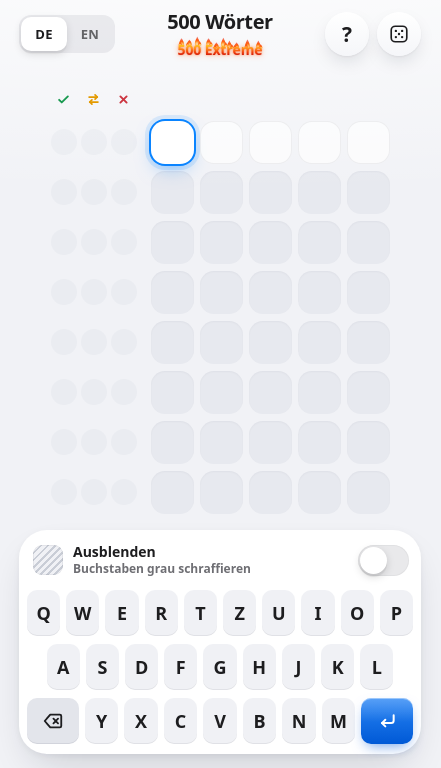
Test case: Hinweis › braucht zwei Tipps: Der erste drückt den Button ein und zeigt die Sprechblase
Click the button named "Hinweis". click: (347, 34)
box: [325,12,369,56]
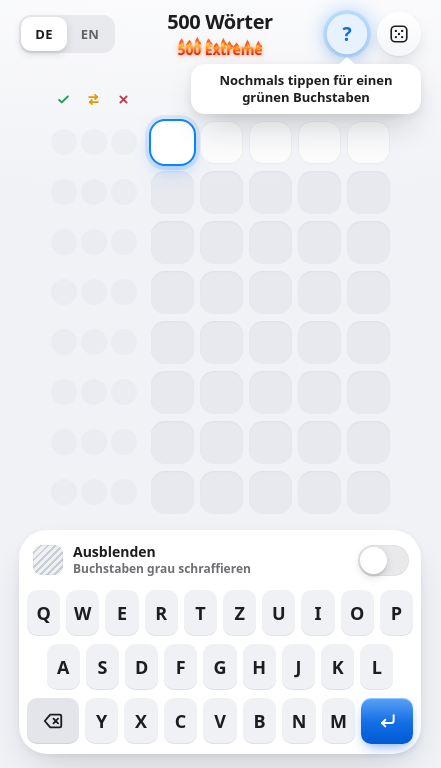
Check: the tooltip "Nochmals tippen für einen grünen Buchstaben" is shown, box [191,64,421,114]
Click the button named "Hinweis". click: (347, 34)
box: [327,14,367,54]
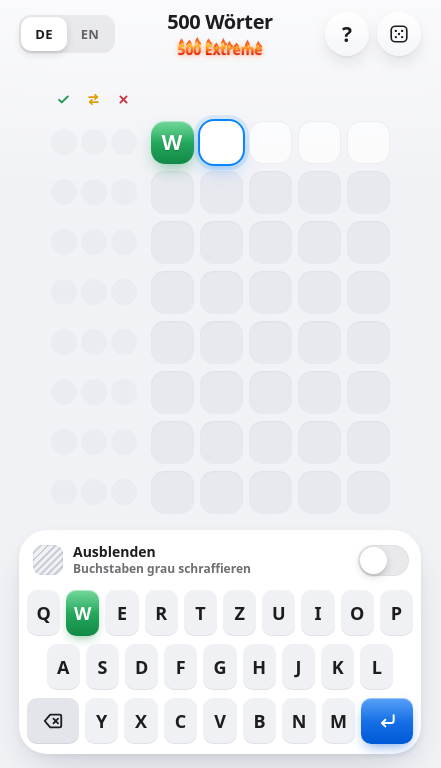
Check: the tooltip "Nochmals tippen für einen grünen Buchstaben" is gone
